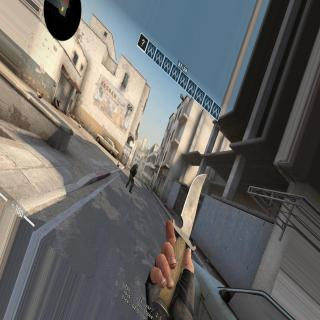CT-Body: (128, 163, 138, 189)
CT-Head: (135, 164, 138, 168)
